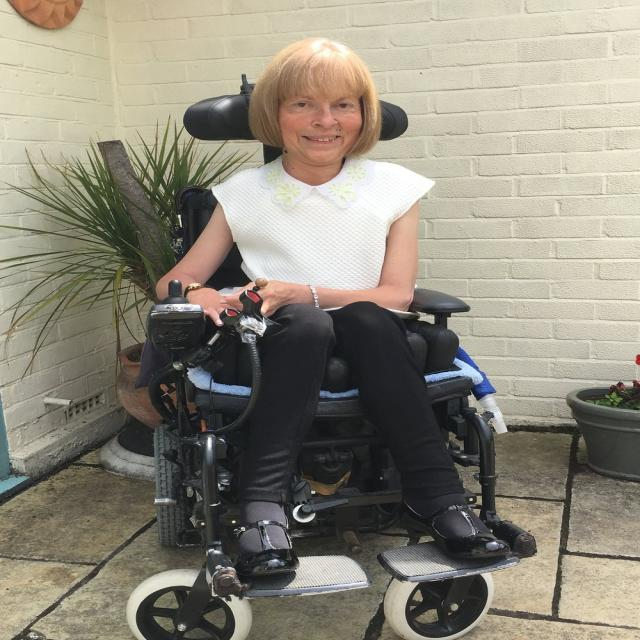wheelchairs: (117, 187, 546, 640)
